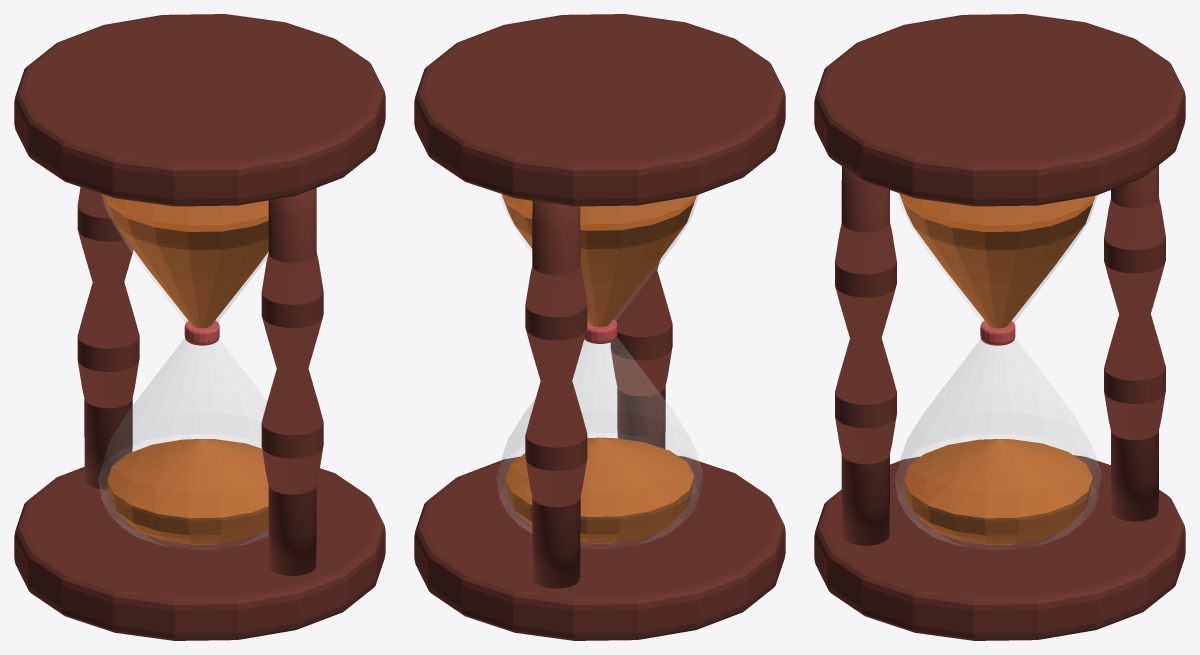
Rendered from a6l-8cOgbR_.glb.
The picture shows the model from 3 angles, left to right: view 1: azimuth 30°, elevation 25°; view 2: azimuth 150°, elevation 25°; view 3: azimuth 270°, elevation 25°; orthographic projection.
Visible parts, largest first — view 1: Cylinder008, Object003, Cylinder007, Cylinder012; view 2: Cylinder008, Object003, Cylinder007, Cylinder012; view 3: Cylinder008, Object003, Cylinder007, Cylinder012.
Boxes of the visible parts, x1,y1,x2,y2 form: Cylinder008: (14,14,385,640); Object003: (103,194,268,544); Cylinder007: (98,194,268,546); Cylinder012: (184,320,219,345); Cylinder008: (414,14,785,640); Object003: (501,194,696,543); Cylinder007: (496,194,702,544); Cylinder012: (584,319,617,343); Cylinder008: (814,14,1185,640); Object003: (899,193,1095,544); Cylinder007: (895,193,1101,547); Cylinder012: (980,320,1015,345).
Bounding box in the file's own units: 0.6983 × 1 × 0.7048.
